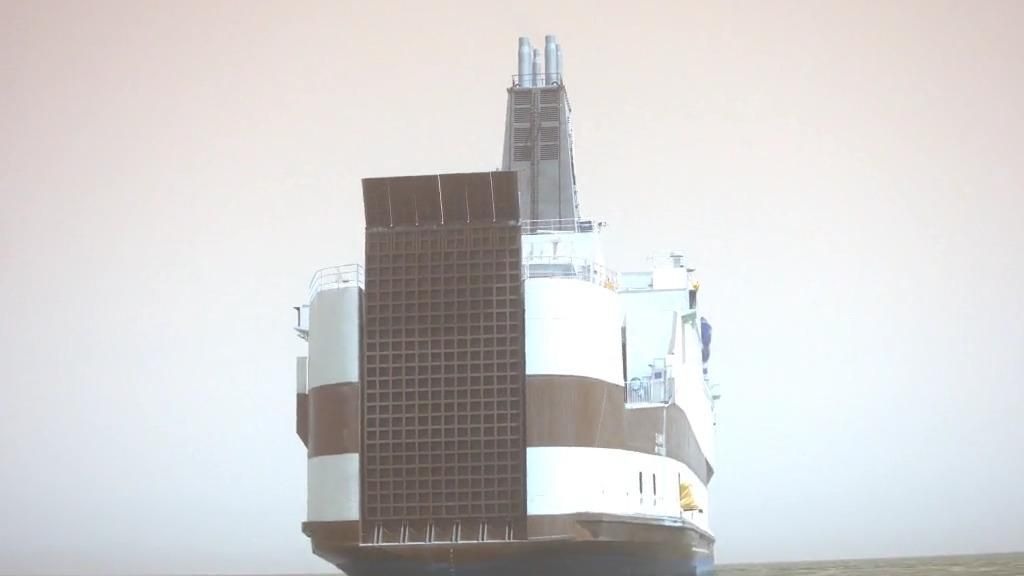PassengerShip: (279, 25, 731, 576)
